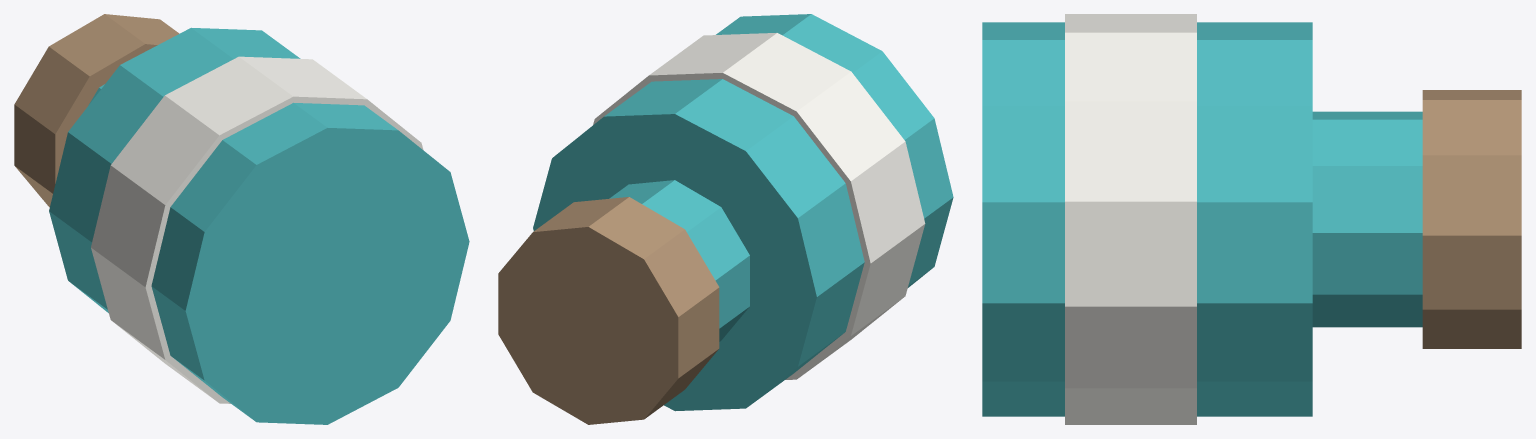
Rendered from cyan_dye_held.gltf.
3 views of the same model, side by side, from view 1: azimuth 30°, elevation 25°; view 2: azimuth 150°, elevation 25°; view 3: azimuth 270°, elevation 25° (orthographic). The views are drawn at different scales.
Visible parts, largest first — view 1: colors_cyan_dye_held; view 2: colors_cyan_dye_held; view 3: colors_cyan_dye_held.
Part boxes in pixels (x1,y1,x2,y2): colors_cyan_dye_held: (14, 14, 469, 424); colors_cyan_dye_held: (498, 14, 953, 424); colors_cyan_dye_held: (982, 14, 1521, 424).
Bounding box in the file's own units: 0.075 × 0.075 × 0.098.
